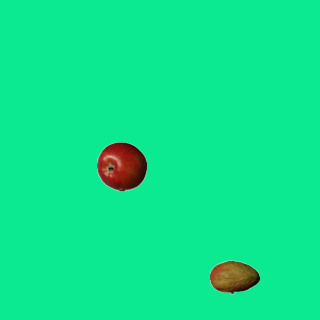Apple Braeburn: (96, 141, 146, 191)
Papaya: (209, 252, 259, 302)
